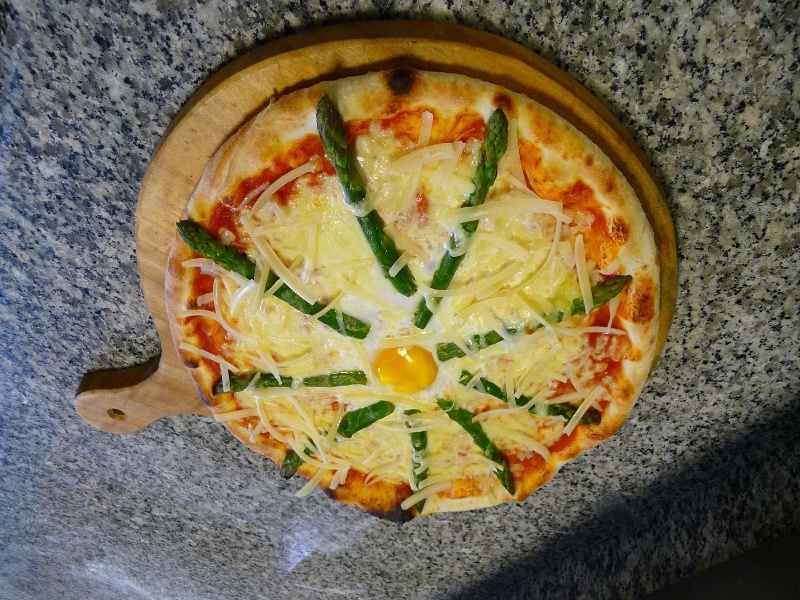oeuf: (362, 330, 451, 401)
